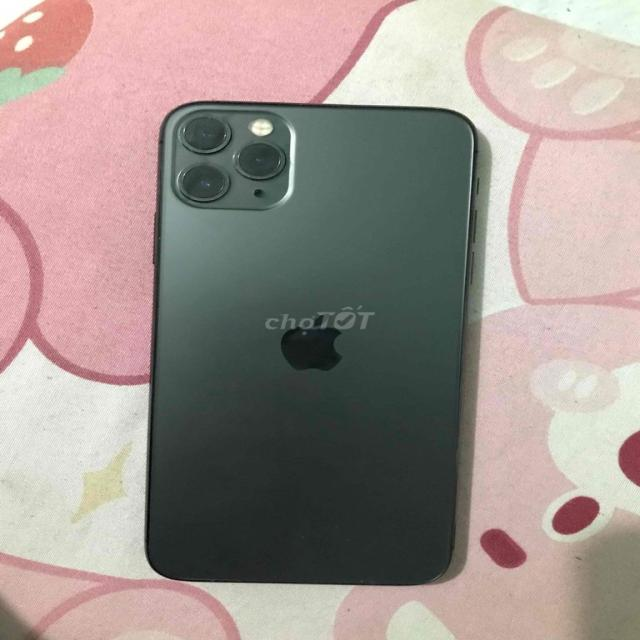gen_11: (143, 94, 480, 592)
